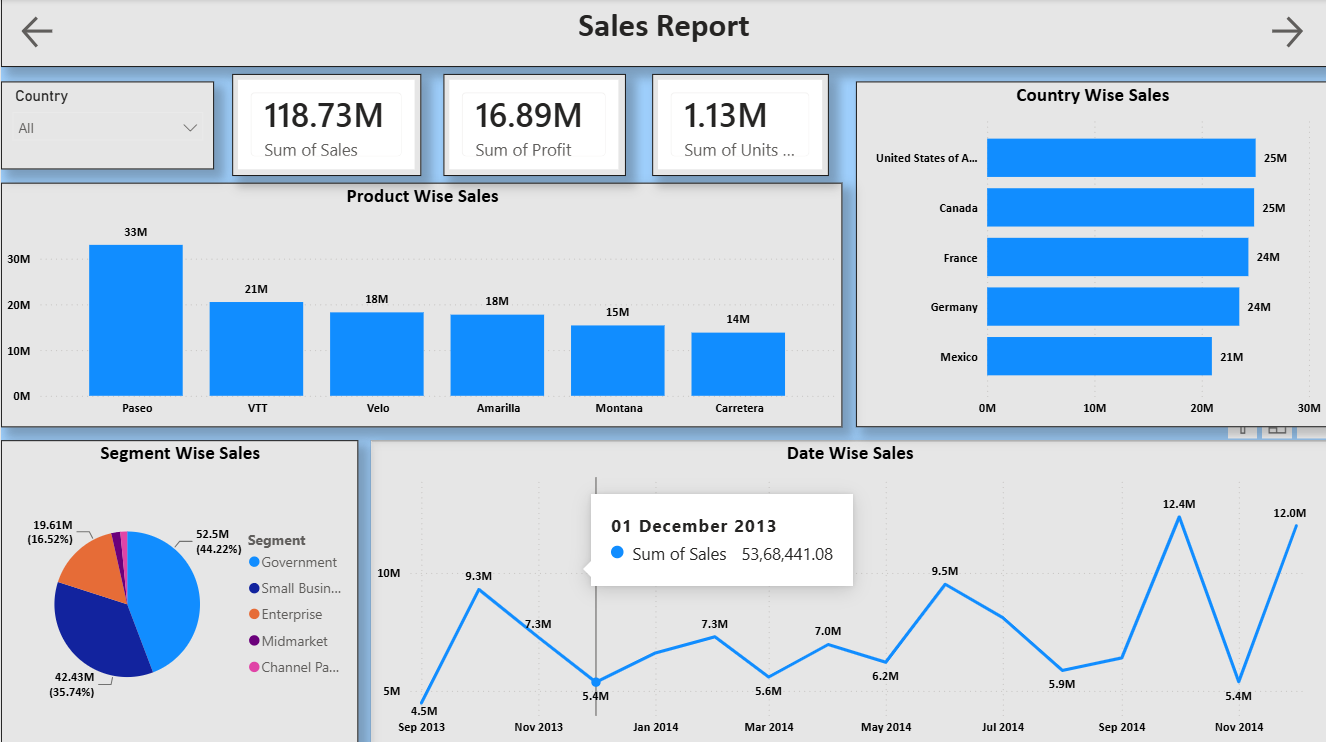

This screenshot's page, from the dashboard's own definition file:
{"tool":"powerbi","page":{"name":"Sales Report","canvas":[1280,720],"ordinal":1},"visuals":[{"type":"textbox","box":[0,0,1280.3,65.9],"z":0},{"type":"lineChart","title":"Date Wise Sales","fields":{"Y":["Sum(Sheet1.Sales)"],"Category":["Sheet1.Date"]},"box":[356.8,425.4,923.5,295],"z":2000},{"type":"barChart","title":"Country Wise Sales","fields":{"Category":["Sheet1.Country"],"Y":["Sum(Sheet1.Sales)"]},"box":[824.7,79.6,455.6,333.4],"z":3000},{"type":"columnChart","title":"Product Wise Sales","fields":{"Category":["Sheet1.Product"],"Y":["Sum(Sheet1.Sales)"]},"box":[0,177,812.4,236],"z":4000},{"type":"cardVisual","fields":{"Data":["Sum(Sheet1.Profit)"]},"box":[426.8,72.7,175.6,98.8],"z":5000},{"type":"cardVisual","fields":{"Data":["Sum(Sheet1.Units Sold)"]},"box":[628.5,72.7,170.2,98.8],"z":6000},{"type":"cardVisual","fields":{"Data":["Sum(Sheet1.Sales)"]},"box":[223.7,72.7,182.5,98.8],"z":7000},{"type":"pieChart","title":"Segment Wise Sales","fields":{"Category":["Sheet1.Segment"],"Y":["Sum(Sheet1.Sales)"]},"box":[0,425.4,344.4,295],"z":7001},{"type":"slicer","fields":{"Values":["Sheet1.Country"]},"box":[0,79.6,205.8,85.1],"z":7002},{"type":"actionButton","box":[15.1,12.3,57.6,39.8],"z":7003},{"type":"actionButton","box":[1221.3,12.3,59,39.8],"z":7004}]}

Visuals, with their boxes in screenshot pixels (x1, y1, x2, y2), scaled from the page's 1280x720 canvas onto the 1326x742 screenshot:
textbox: [left=0, top=0, right=1325, bottom=68]
"Date Wise Sales" lineChart: [left=370, top=438, right=1325, bottom=741]
"Country Wise Sales" barChart: [left=854, top=82, right=1325, bottom=426]
"Product Wise Sales" columnChart: [left=0, top=182, right=842, bottom=426]
cardVisual - Sum(Sheet1.Profit): [left=442, top=75, right=624, bottom=177]
cardVisual - Sum(Sheet1.Units Sold): [left=651, top=75, right=827, bottom=177]
cardVisual - Sum(Sheet1.Sales): [left=232, top=75, right=421, bottom=177]
"Segment Wise Sales" pieChart: [left=0, top=438, right=357, bottom=741]
slicer - Sheet1.Country: [left=0, top=82, right=213, bottom=170]
actionButton: [left=16, top=13, right=75, bottom=54]
actionButton: [left=1265, top=13, right=1325, bottom=54]
